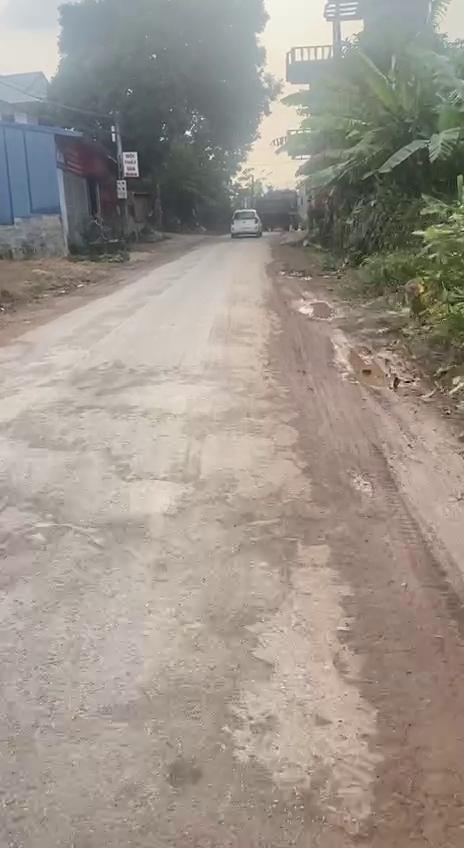pothole: (334, 341, 396, 392), (288, 294, 338, 322)
